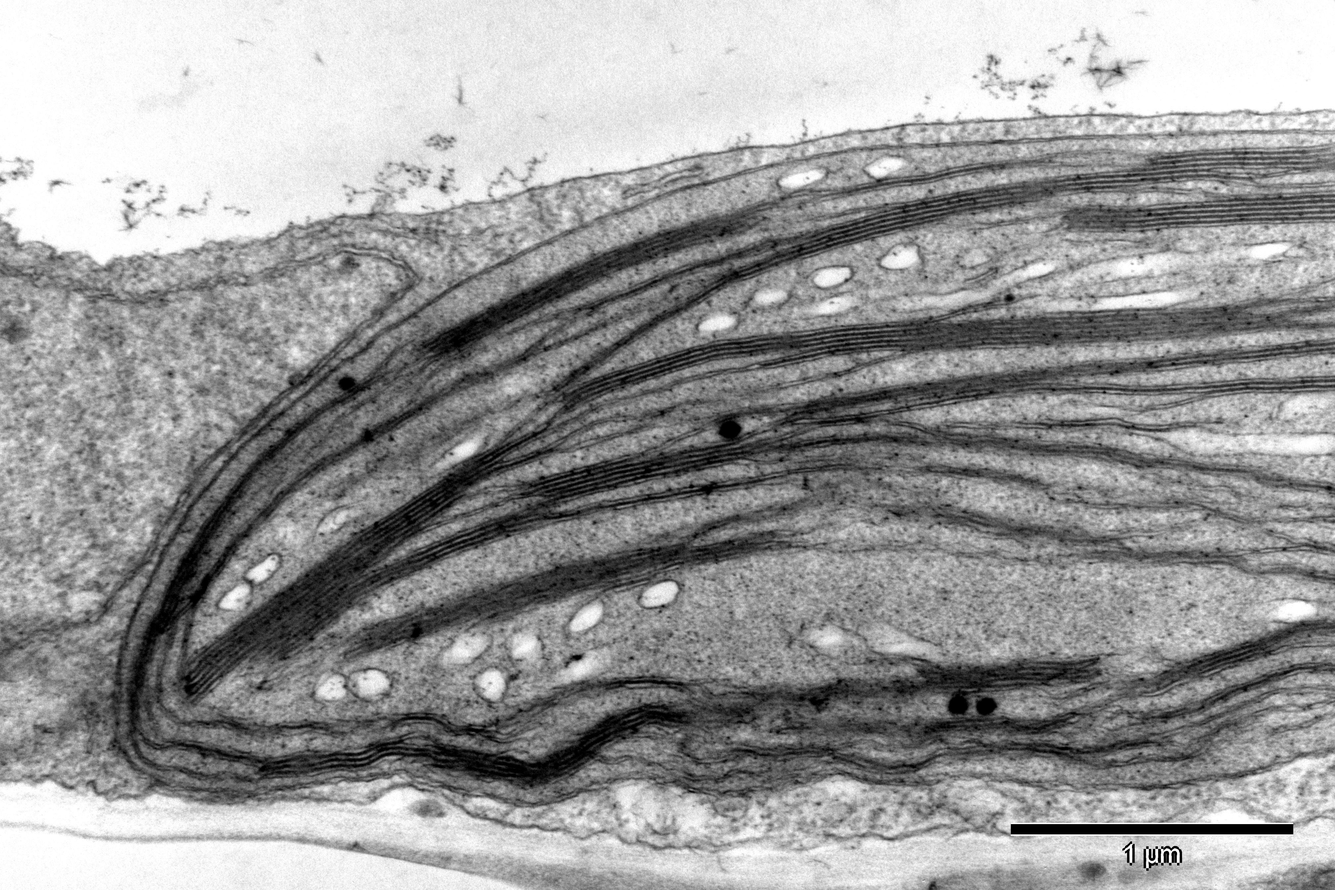granum: (408, 200, 767, 365), (340, 540, 694, 666), (258, 697, 685, 797), (670, 192, 948, 319), (177, 541, 375, 705), (559, 319, 892, 416), (891, 300, 1309, 363), (753, 653, 1091, 709), (361, 500, 557, 595), (520, 435, 746, 509), (1150, 612, 1334, 698), (1030, 335, 1335, 382), (916, 424, 1193, 475), (1062, 188, 1335, 236), (941, 162, 1146, 220), (338, 479, 459, 574), (145, 512, 226, 635), (890, 363, 1045, 416), (1144, 144, 1288, 186), (434, 438, 514, 502), (924, 710, 1059, 742), (1203, 372, 1335, 402), (931, 500, 1022, 543), (690, 526, 774, 571), (1146, 543, 1247, 576), (1060, 524, 1130, 565), (379, 392, 435, 435), (821, 384, 894, 415), (1284, 137, 1334, 178), (771, 739, 838, 765), (781, 394, 817, 427), (1286, 559, 1316, 582)
